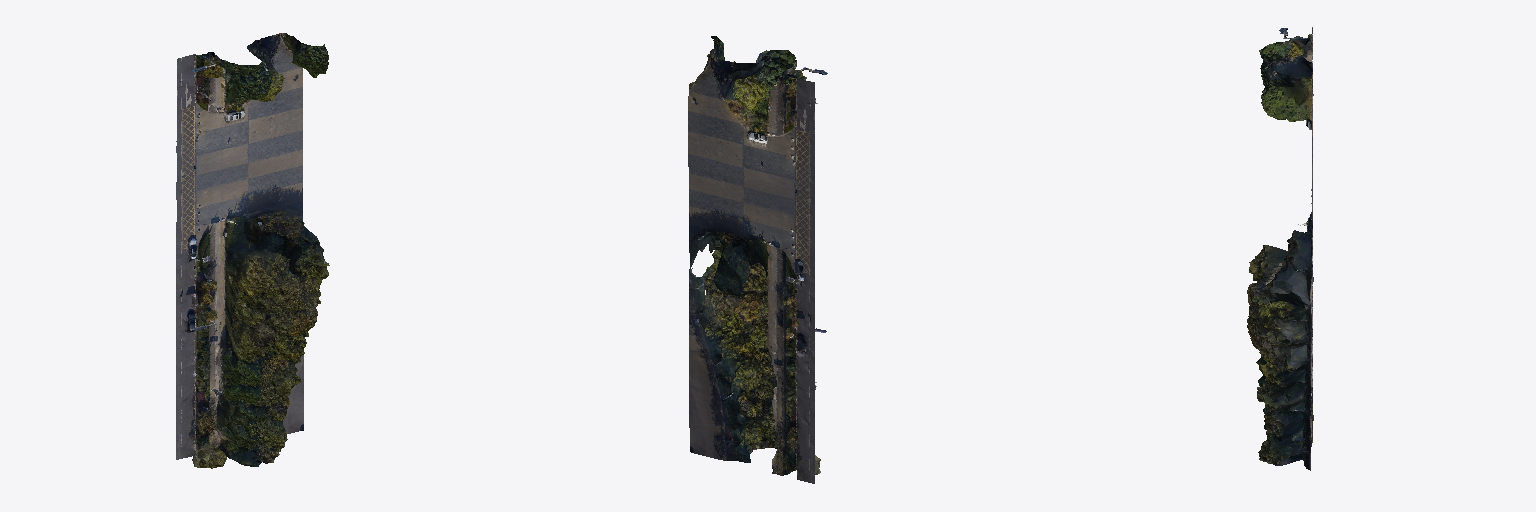
3 renders of one model, left to right at view 1: azimuth 30°, elevation 25°; view 2: azimuth 150°, elevation 25°; view 3: azimuth 270°, elevation 25°, orthographic.
Bounding box in the file's own units: 33.11 × 100 × 15.22.
1 materials, 1 textured.